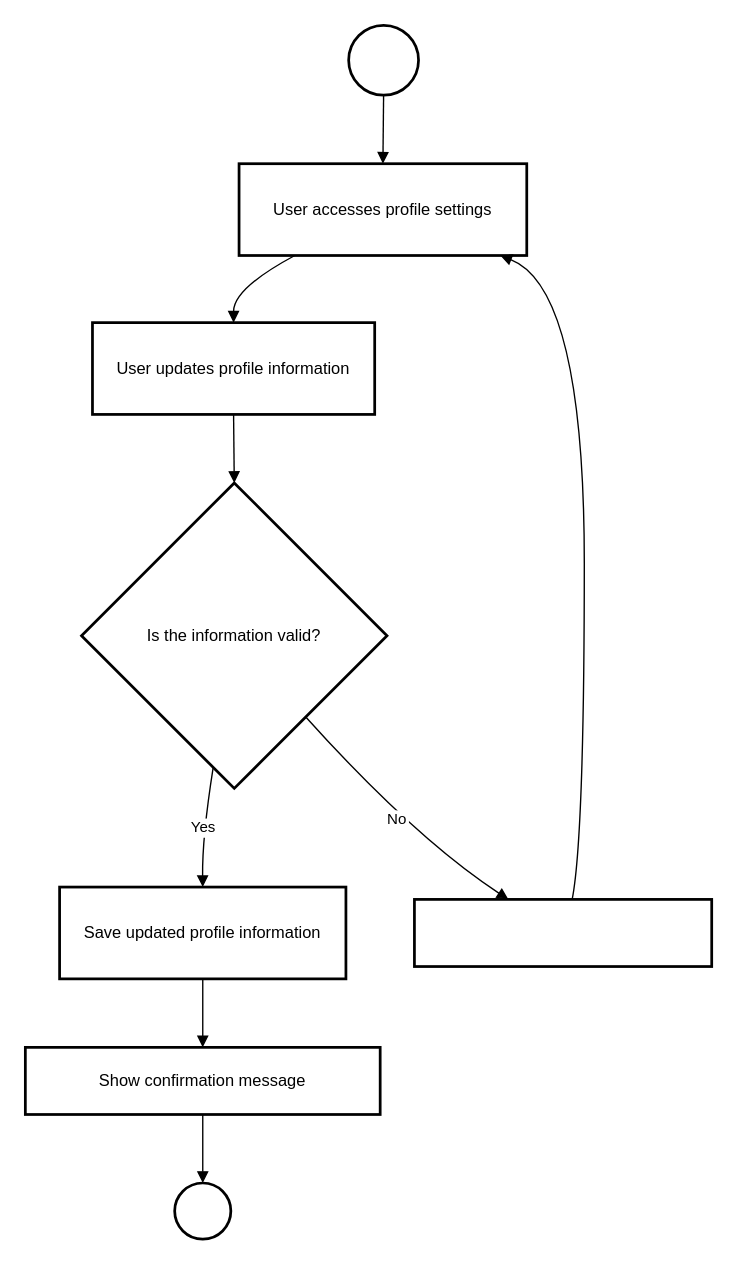
The diagram is 736 pixels wide and 1263 high, and some of its shapes have lost their labels. The box of each missing label's shape, as (x1, y1, x2, y2) in pixels:
Display error message: (412, 897, 712, 967)
End: (173, 1181, 232, 1240)
Start: (347, 23, 419, 96)
